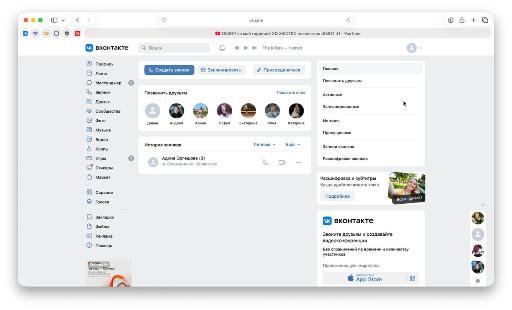vk: (15, 37, 493, 289)
